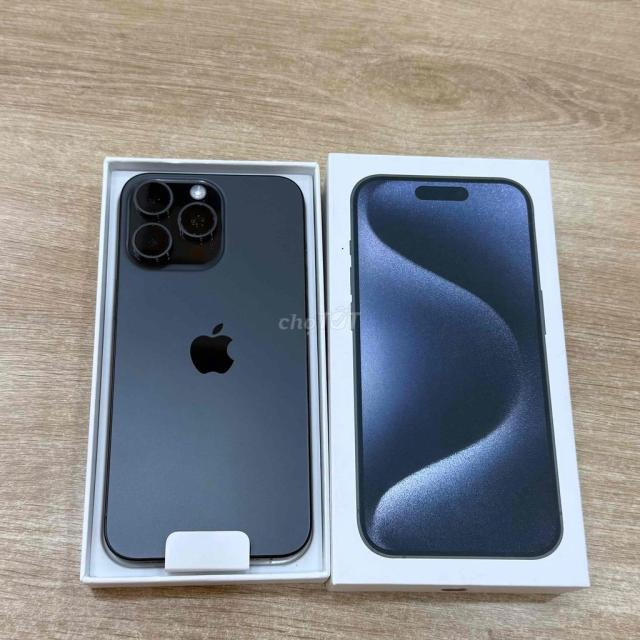gen_15: (100, 133, 318, 577)
